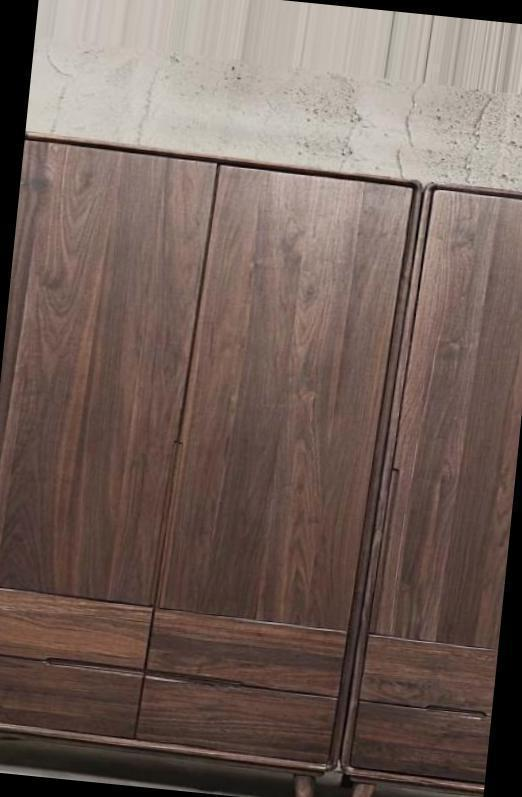Armario: (0, 111, 401, 797), (344, 171, 522, 797)
